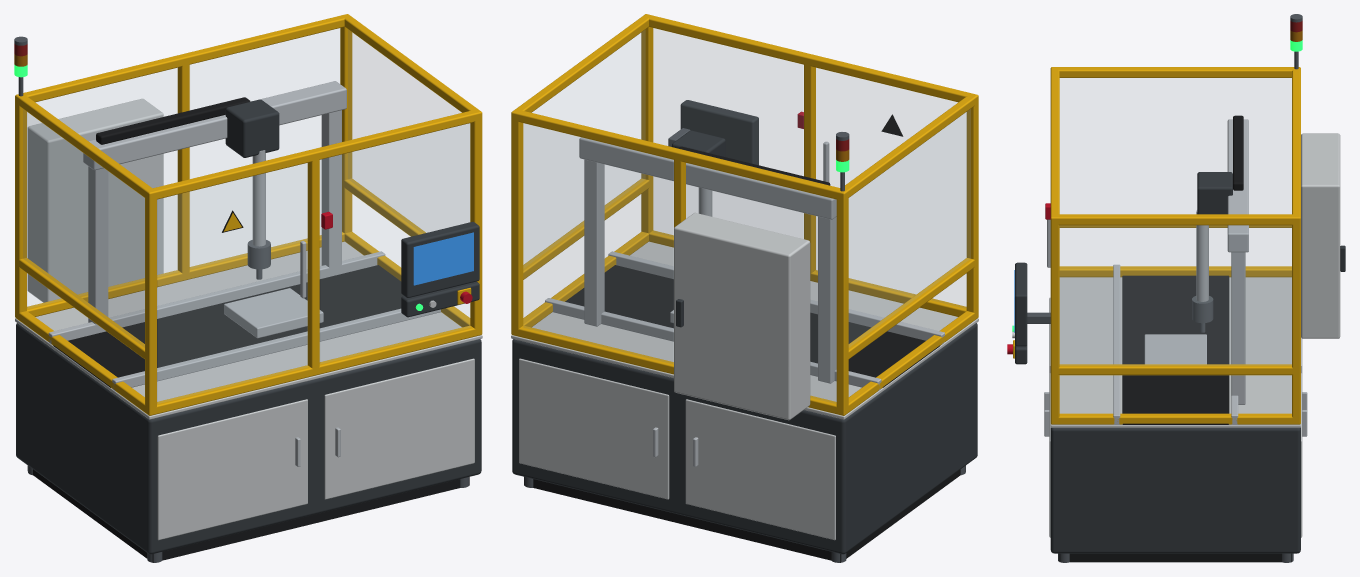
The model's file is guarded-machine-cell.glb.
3 renders of one model, left to right at view 1: azimuth 30°, elevation 25°; view 2: azimuth 150°, elevation 25°; view 3: azimuth 270°, elevation 25°, orthographic. The views are drawn at different scales.
Visible parts, largest first — view 1: polycarbonate, paint_light_grey, safety_yellow, paint_anthracite, aluminium, rubber_black, hmi_screen, steel_dark; view 2: polycarbonate, paint_light_grey, safety_yellow, paint_anthracite, aluminium, rubber_black, steel_dark; view 3: polycarbonate, paint_anthracite, paint_light_grey, safety_yellow, rubber_black, aluminium, steel_dark.
Boxes of the visible parts, <box> form: polycarbonate: <box>23,28,469,403</box>; paint_light_grey: <box>15,98,482,540</box>; safety_yellow: <box>15,14,482,415</box>; paint_anthracite: <box>16,99,481,554</box>; aluminium: <box>48,81,440,466</box>; rubber_black: <box>27,97,469,562</box>; hmi_screen: <box>413,232,473,285</box>; steel_dark: <box>14,36,468,562</box>; polycarbonate: <box>523,28,970,403</box>; paint_light_grey: <box>511,212,978,540</box>; safety_yellow: <box>511,14,978,415</box>; paint_anthracite: <box>512,100,977,554</box>; aluminium: <box>545,137,944,466</box>; rubber_black: <box>524,146,960,562</box>; steel_dark: <box>524,128,965,562</box>; polycarbonate: <box>1060,78,1291,365</box>; paint_anthracite: <box>1015,172,1345,553</box>; paint_light_grey: <box>1012,133,1340,537</box>; safety_yellow: <box>1013,67,1300,424</box>; rubber_black: <box>1059,115,1291,562</box>; aluminium: <box>1044,119,1307,436</box>; steel_dark: <box>1027,14,1302,562</box>.
Bounding box in the file's own units: 2.01 × 2.47 × 1.89.
